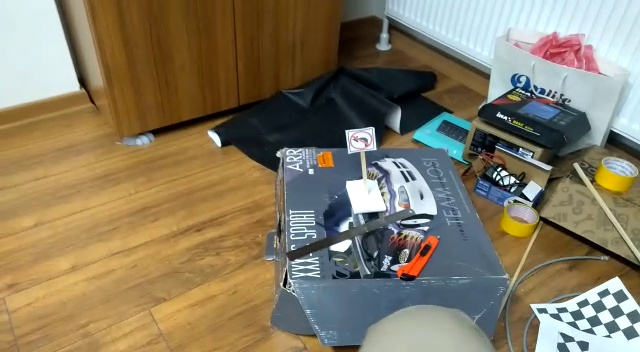sola_donulmez: (347, 126, 374, 152)
